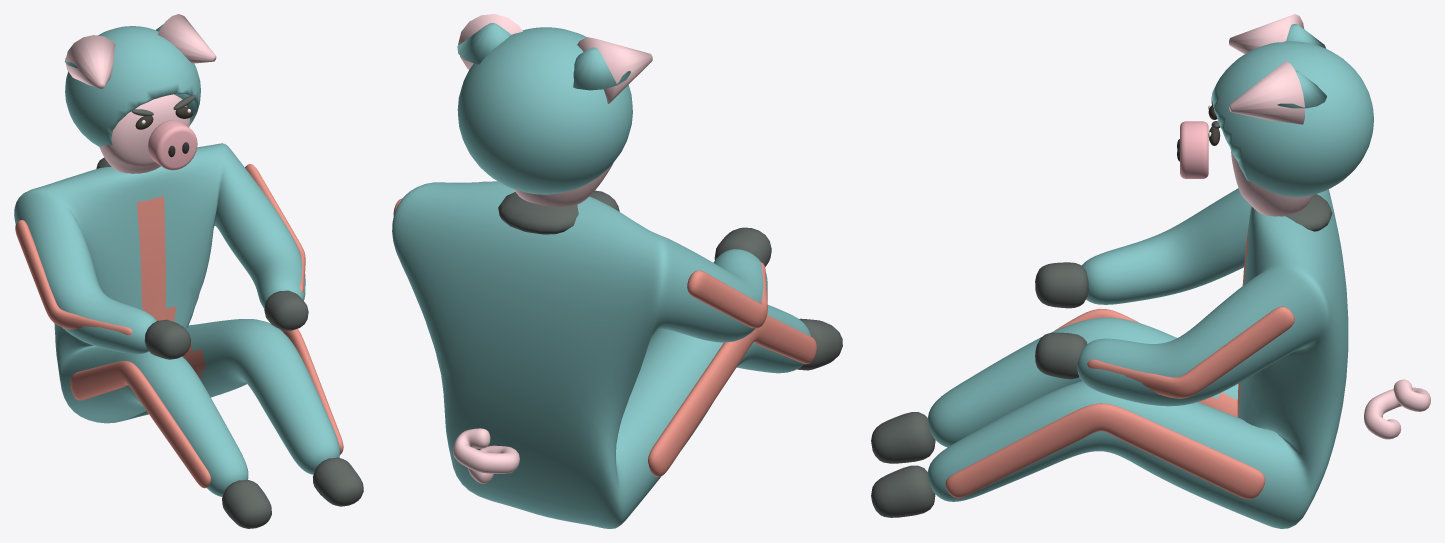
Rendered from Pig.fbx.
The picture shows the model from 3 angles, left to right: view 1: azimuth 30°, elevation 25°; view 2: azimuth 150°, elevation 25°; view 3: azimuth 270°, elevation 25°; orthographic projection. The views are drawn at different scales.
Parts seen in each view (by area): view 1: Pilot_pig; view 2: Pilot_pig; view 3: Pilot_pig.
Part boxes in pixels (x1,y1,x2,y2): Pilot_pig: [14, 14, 363, 528]; Pilot_pig: [392, 14, 842, 528]; Pilot_pig: [871, 14, 1430, 528].
Bounding box in the file's own units: 0.7341 × 1.07 × 1.16.
